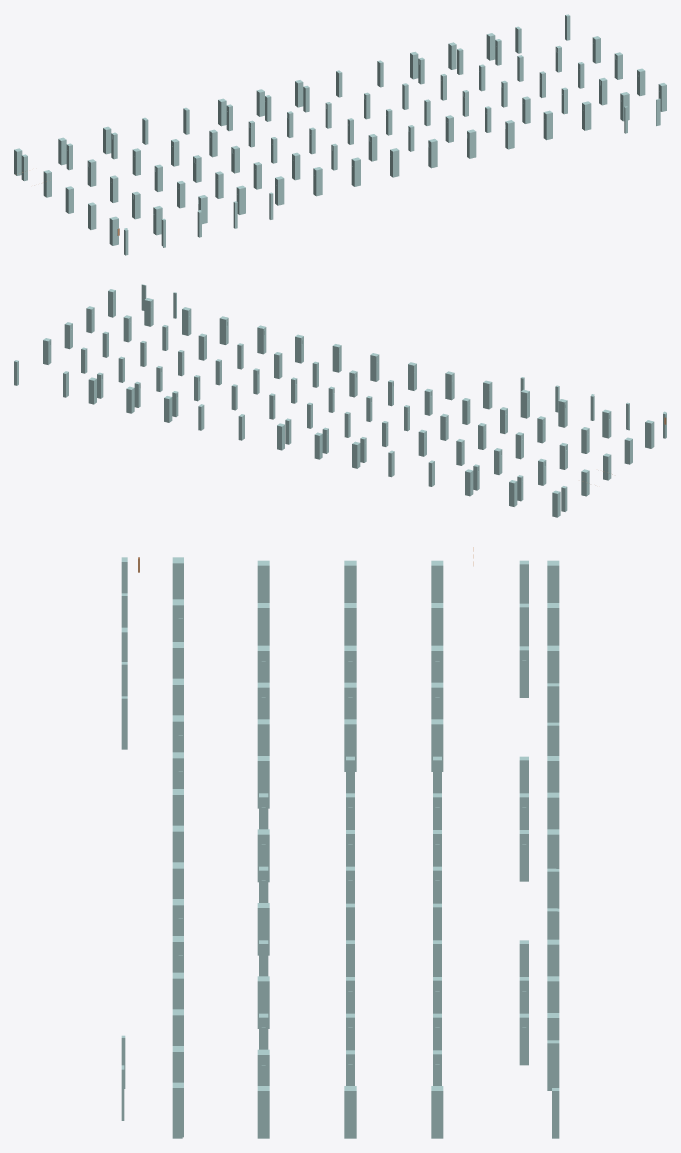
File: detail-support-1-gf.glb
3 views of the same model, one above another, from view 1: azimuth 30°, elevation 25°; view 2: azimuth 150°, elevation 25°; view 3: azimuth 270°, elevation 25° (orthographic). The views are drawn at different scales.
Size of the model in its own units: 108 by 4.95 by 36.26.
